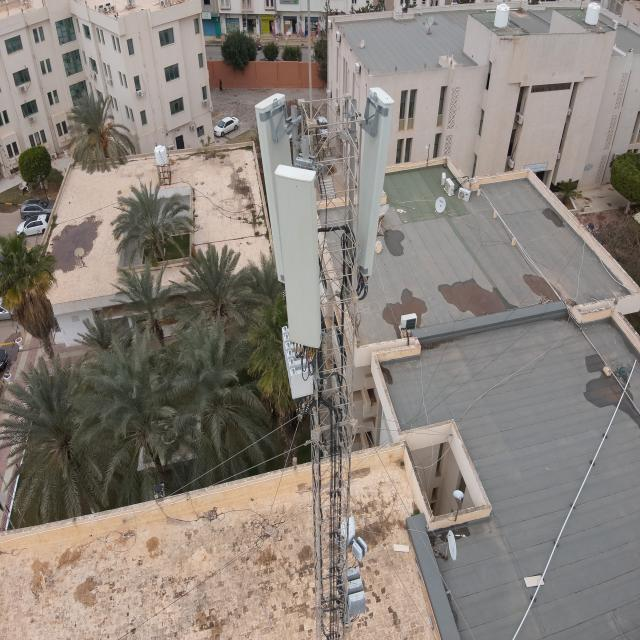antenna: (275, 158, 331, 351), (256, 91, 308, 286), (351, 80, 397, 278)
lighnig-rad: (306, 0, 314, 123)
microware-dish: (330, 512, 374, 562)
power-box: (338, 556, 371, 622)
radio-unit: (276, 323, 324, 403)
